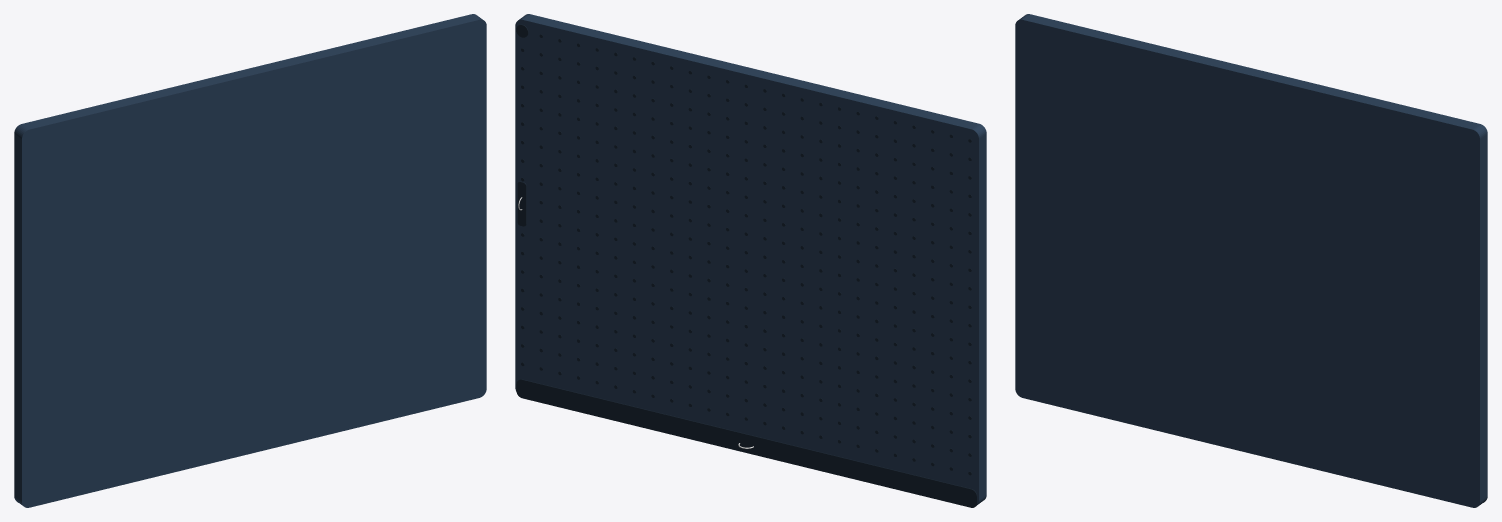
File: board_1.fbx
3 renders of one model, left to right at view 1: azimuth 30°, elevation 25°; view 2: azimuth 150°, elevation 25°; view 3: azimuth 330°, elevation 25°, orthographic.
Parts seen in each view (by area): view 1: Horizontal Handle Clip.011; view 2: Horizontal Handle Clip.011, Bg.013, Bg Hole.004; view 3: Horizontal Handle Clip.011.
Part boxes in pixels (<box>): Horizontal Handle Clip.011: <box>14,14,486,507</box>; Horizontal Handle Clip.011: <box>515,14,986,504</box>; Bg.013: <box>516,379,977,507</box>; Bg Hole.004: <box>521,34,971,475</box>; Horizontal Handle Clip.011: <box>1015,14,1487,507</box>.
Size of the model in its own units: 76.44 by 59.58 by 3.47.
